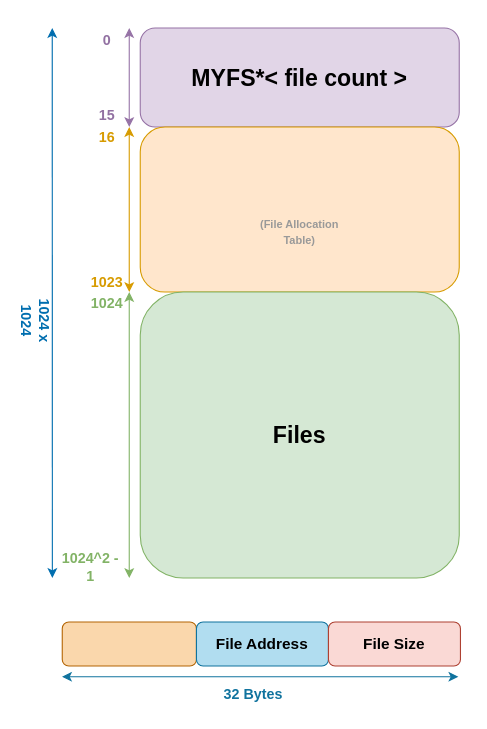
This 487x729 diagram has some shape labels left out. The box of each missing label's shape, as (x1, y1, x2, y2) in pixels:
FAT: (139, 126, 459, 292)
File Name: (61, 621, 196, 666)
